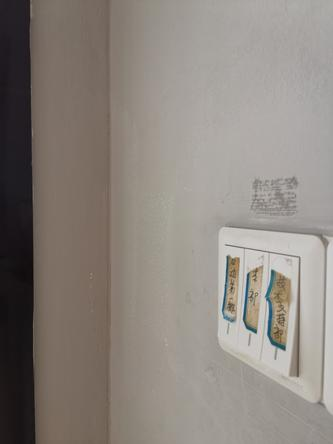switch: (263, 245, 307, 379), (237, 242, 269, 372), (217, 239, 246, 359)
